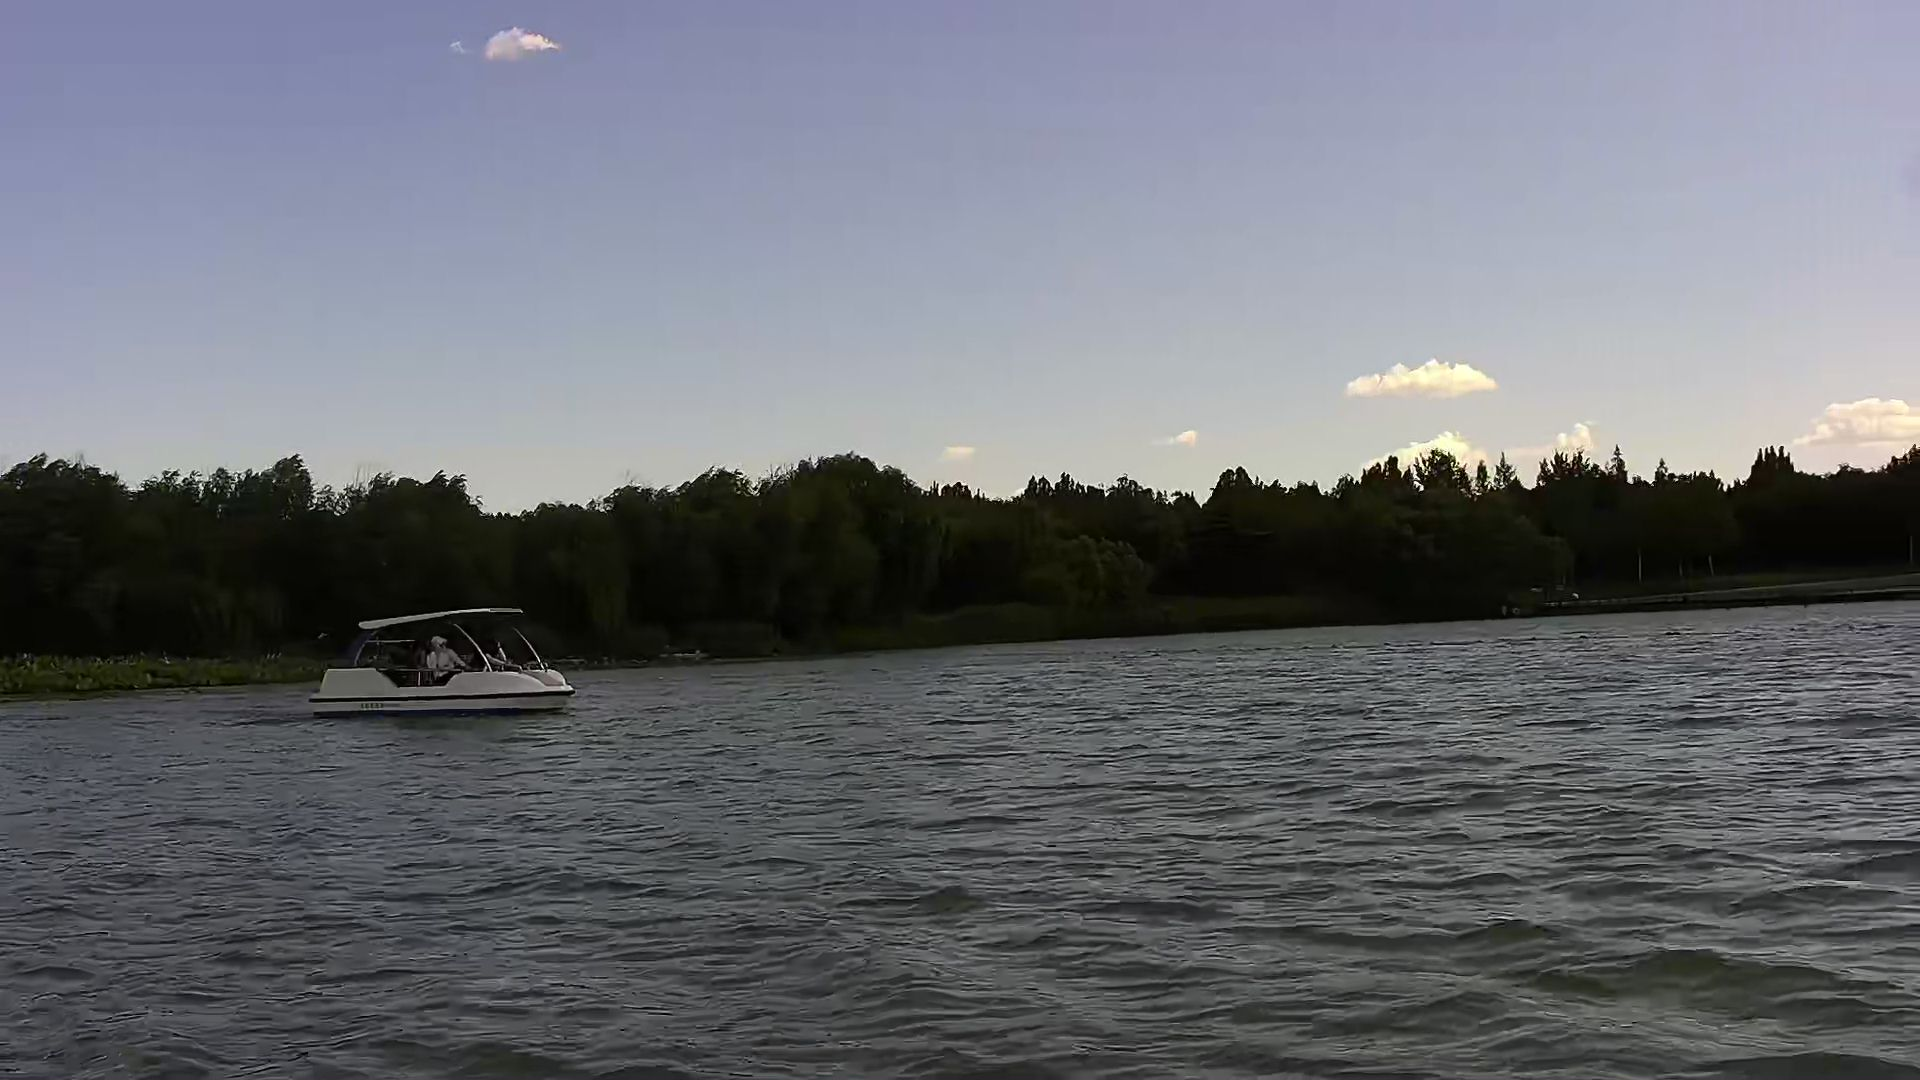boat: (307, 602, 582, 721)
person: (418, 635, 466, 685)
